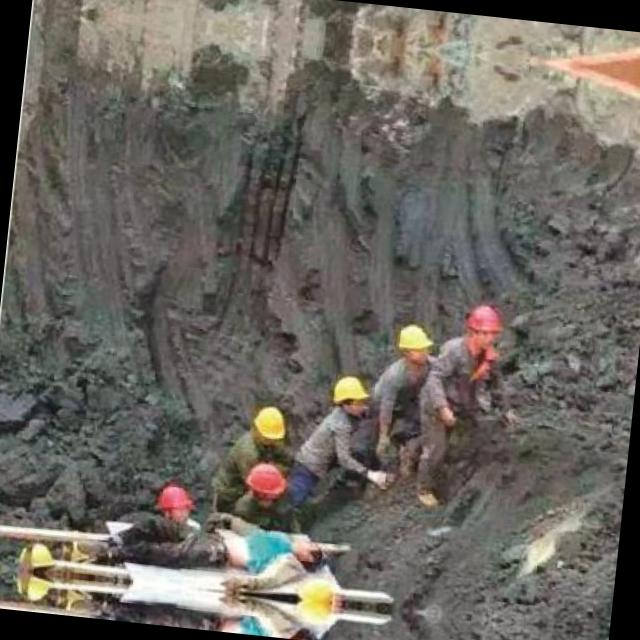helmet: (240, 458, 294, 508), (462, 298, 504, 354), (151, 479, 197, 528), (391, 320, 433, 370), (326, 372, 369, 420), (250, 398, 290, 448)
